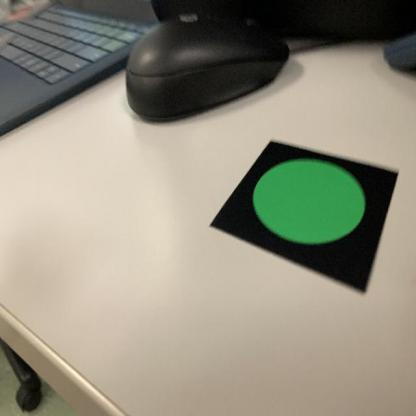go: (209, 135, 402, 303)
